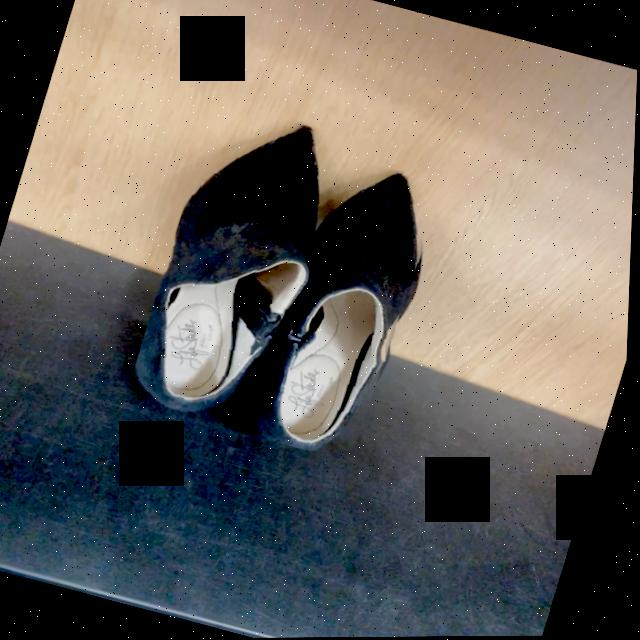shoe: (137, 128, 418, 451)
